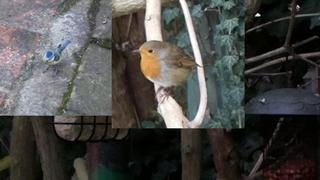blue tit: (42, 40, 72, 78)
robin: (132, 40, 205, 104)
